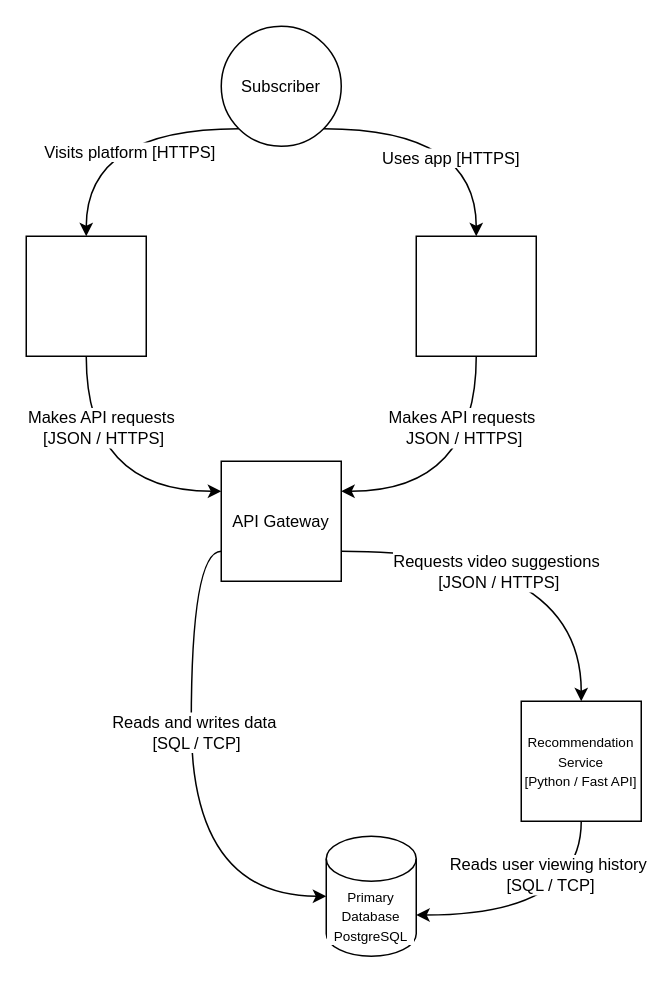
Image size: 672x983. Some labels were removed from this diagram. Here are the shapes that lost their labels. From the top down, the centre of each, then its label:
At (x=85, y=295): "Web Application".
At (x=475, y=295): "Mobile App".
